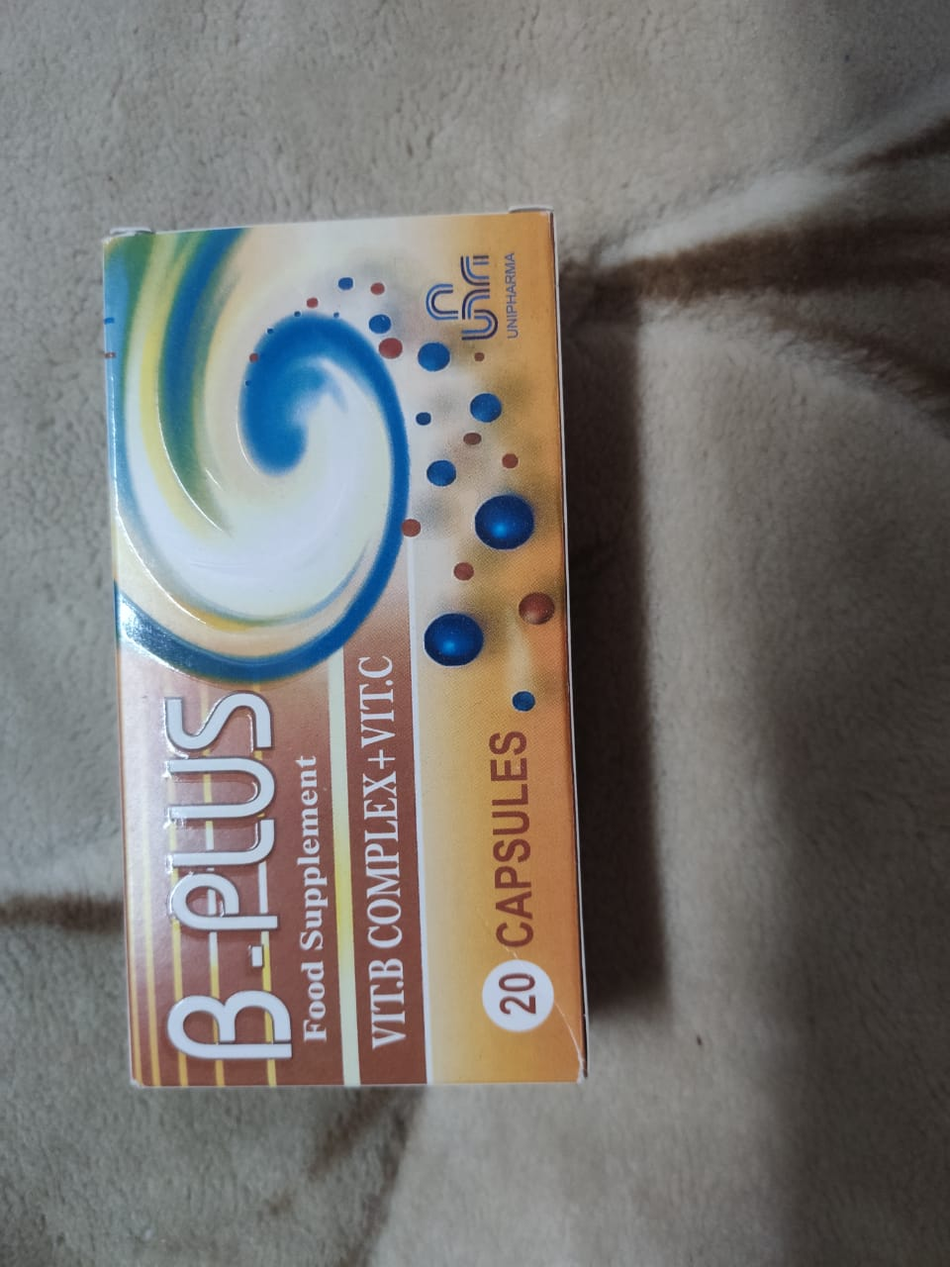Medicine: (76, 208, 600, 1109)
